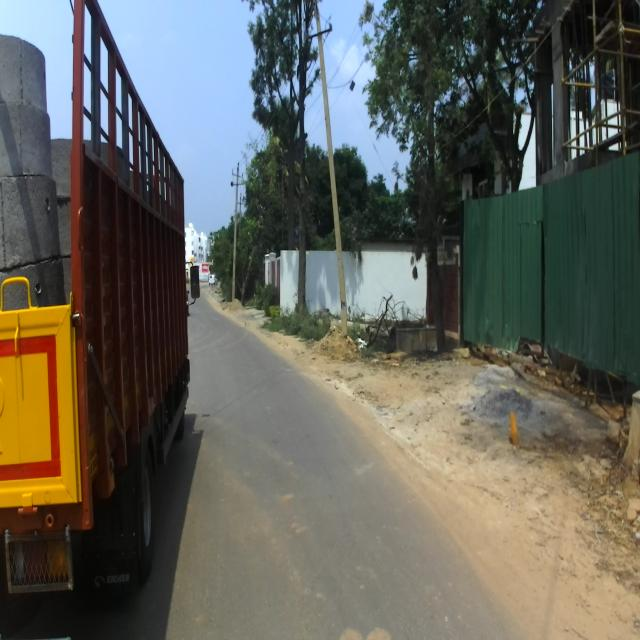truck ahead at: (0, 0, 202, 632)
